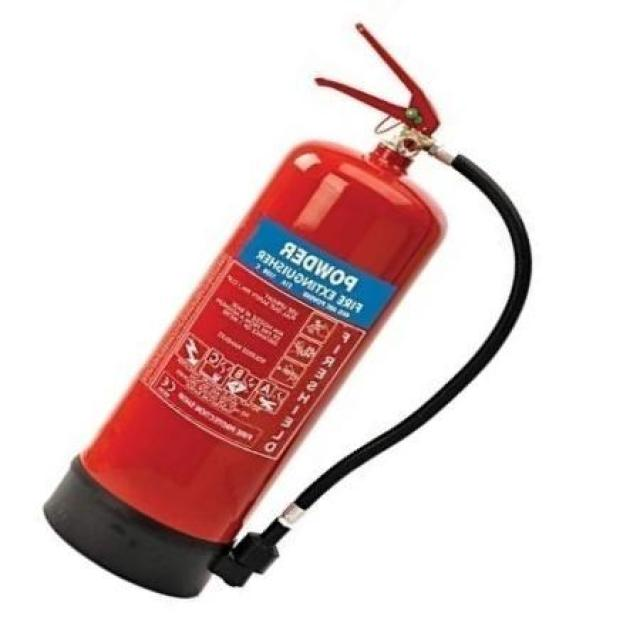fire_extinguisher: (38, 12, 538, 602)
